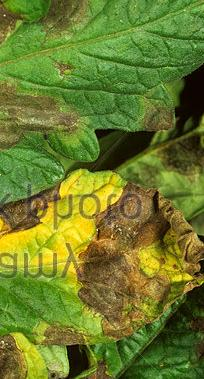Tomato leaf late blight: (0, 0, 204, 222), (0, 167, 204, 379)
